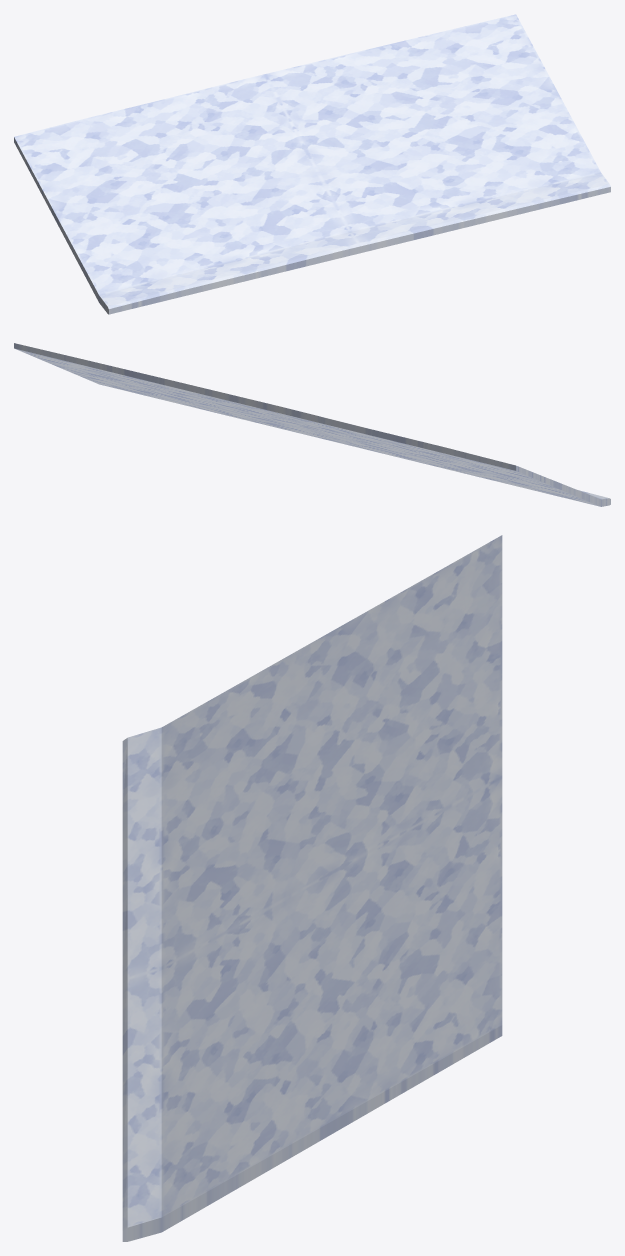
Rendered from snow_roof_blanket.glb.
The picture shows the model from 3 angles, top to bottom: view 1: azimuth 30°, elevation 25°; view 2: azimuth 150°, elevation 25°; view 3: azimuth 270°, elevation 25°; orthographic projection. The views are drawn at different scales.
Visible parts, largest first — view 1: winter_snow_roof_blanket; view 2: winter_snow_roof_blanket; view 3: winter_snow_roof_blanket.
Boxes of the visible parts, x1,y1,x2,y2 form: winter_snow_roof_blanket: (14, 14, 610, 314); winter_snow_roof_blanket: (14, 343, 610, 506); winter_snow_roof_blanket: (122, 535, 502, 1241).
Size of the model in its own units: 6.81 by 1.43 by 2.23.
Materials: 1 (1 with a texture image).
